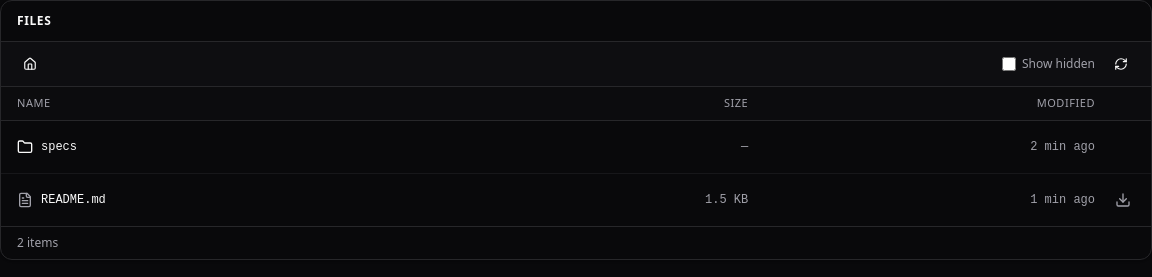
Scenario: FilesPanel › enters a directory and updates breadcrumb
Expected: the text "specs" is shown, [41,138,77,154]
Click the button "specs".
click(59, 146)  # box [13,128,494,164]
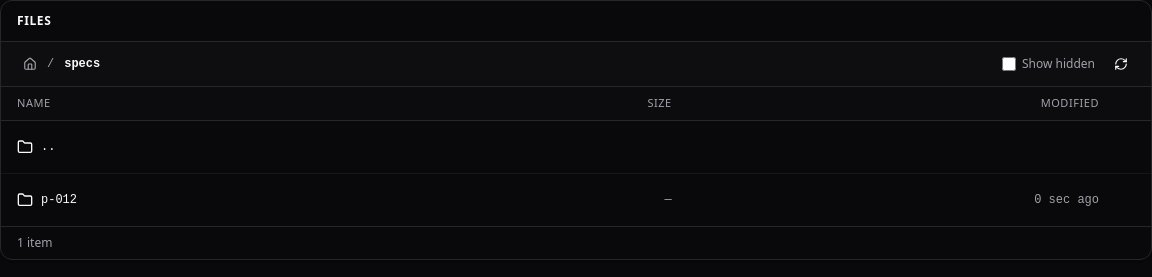
Expected: the text "p-012" is shown, [41,192,77,208]
Expected: the navigation bar named "Path" shows "specs", [58,52,106,76]
